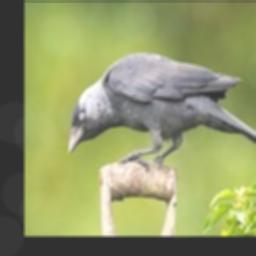Crow: (69, 51, 256, 171)
